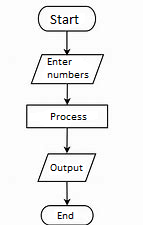arrow: (60, 83, 70, 105), (62, 127, 70, 154), (62, 181, 70, 206), (62, 30, 70, 54)
data: (29, 53, 105, 85), (36, 151, 96, 183)
process: (23, 103, 109, 130)
terminator: (36, 5, 96, 33), (39, 204, 93, 227)
text: (45, 57, 89, 79), (47, 13, 79, 25), (48, 111, 86, 121), (48, 163, 82, 174), (54, 210, 74, 220)
